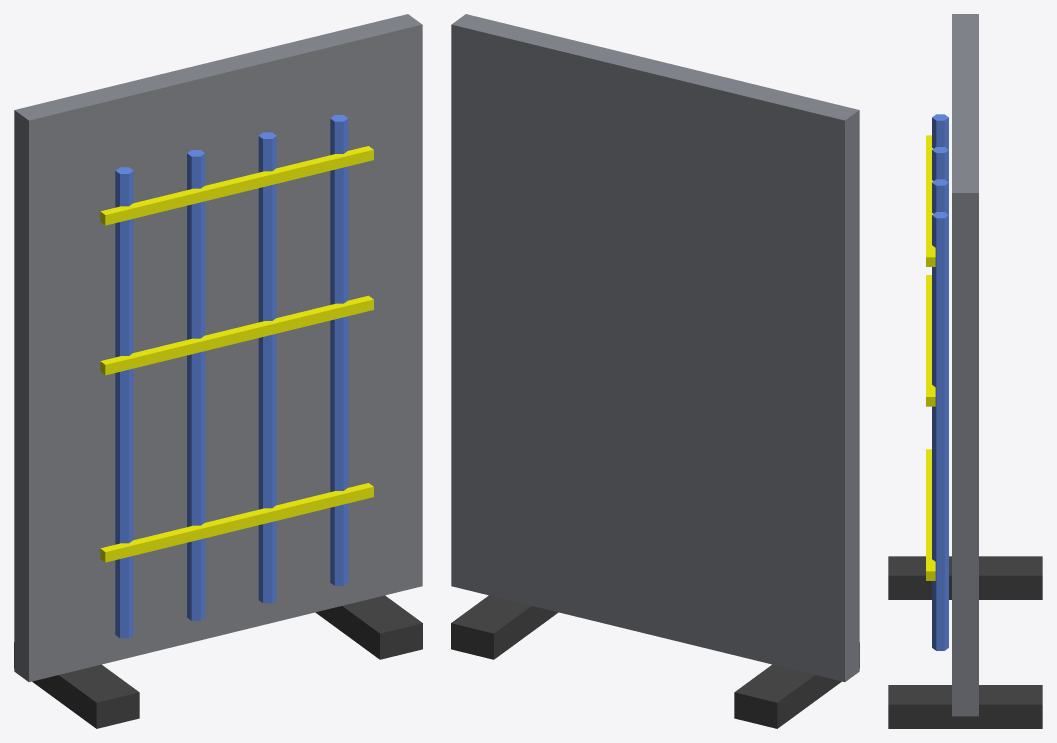
3 views of the same model, side by side, from view 1: azimuth 30°, elevation 25°; view 2: azimuth 150°, elevation 25°; view 3: azimuth 270°, elevation 25° (orthographic). The views are drawn at different scales.
Parts seen in each view (by area): view 1: Panel, Cable run, Cable run.002, Cable run.003, Cable run.001, Cable tie.001, Cable tie, Cable tie.002, Panel foot, Panel foot.001; view 2: Panel, Panel foot, Panel foot.001; view 3: Panel, Cable run.003, Panel foot.001, Panel foot, Cable tie.002, Cable tie.001, Cable tie, Cable run, Cable run.002, Cable run.001.
Boxes of the visible parts, x1,y1,x2,y2 form: Panel: (14, 14, 422, 681); Cable run: (115, 167, 133, 638); Cable run.002: (258, 132, 276, 603); Cable run.003: (330, 115, 348, 585); Cable run.001: (187, 150, 205, 620); Cable tie.001: (100, 295, 373, 375); Cable tie: (100, 483, 373, 562); Cable tie.002: (100, 146, 373, 225); Panel foot: (14, 642, 139, 728); Panel foot.001: (315, 595, 422, 659); Panel: (451, 14, 859, 681); Panel foot: (734, 642, 859, 728); Panel foot.001: (451, 595, 558, 659); Panel: (952, 14, 978, 716); Cable run.003: (932, 212, 948, 650); Panel foot.001: (888, 685, 1042, 728); Panel foot: (888, 556, 1042, 599); Cable tie.002: (926, 135, 935, 266); Cable tie.001: (926, 275, 935, 406); Cable tie: (926, 449, 935, 580); Cable run: (932, 114, 948, 149); Cable run.002: (932, 179, 948, 214); Cable run.001: (932, 147, 948, 182).
Bounding box in the file's own units: 110 × 158 × 40.
